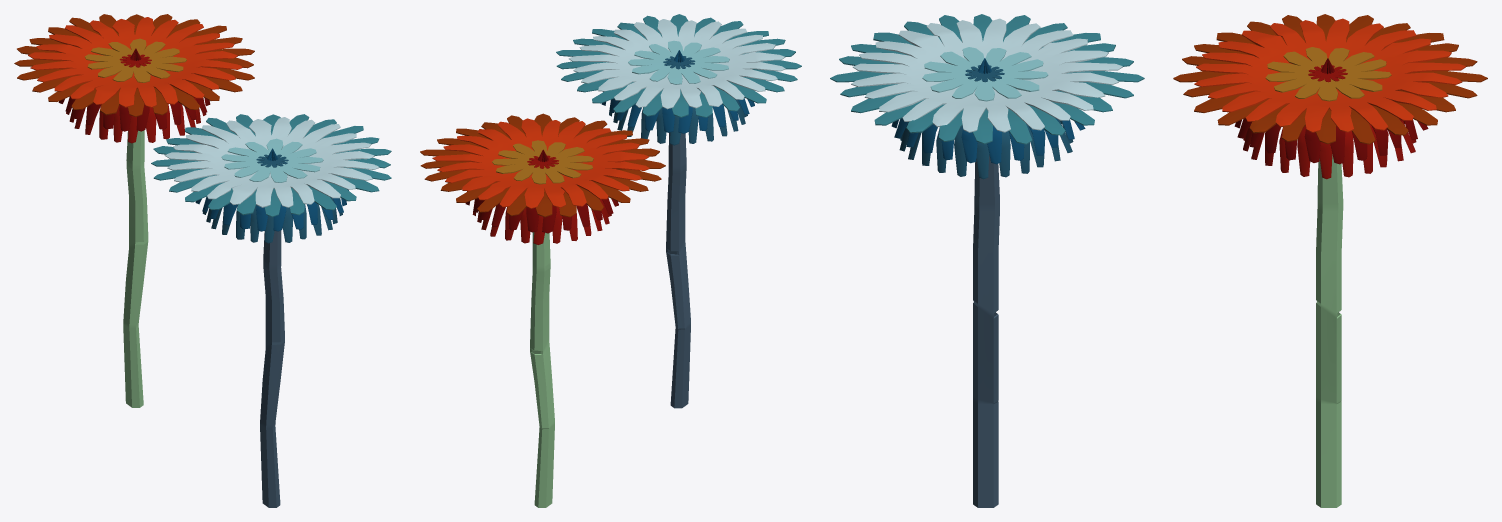
Rendered from Planta_Plataforma_Aberta_Estações.fbx.
3 views of the same model, side by side, from view 1: azimuth 30°, elevation 25°; view 2: azimuth 150°, elevation 25°; view 3: azimuth 270°, elevation 25° (orthographic). The views are drawn at different scales.
Visible parts, largest first — view 1: pCylinder2 (×2), pCylinder1 (×2), pCube4 (×2), pCylinder3 (×2), pCylinder6 (×2), pCylinder5 (×2); view 2: pCylinder2 (×2), pCylinder1 (×2), pCube4 (×2), pCylinder3 (×2), pCylinder6 (×2), pCylinder5 (×2); view 3: pCylinder2 (×2), pCube4 (×2), pCylinder1 (×2), pCylinder3 (×2), pCylinder6 (×2), pCylinder5 (×2).
Part boxes in pixels (x1,y1,x2,y2): pCylinder2 (×2): (28,17,379,207); pCylinder1 (×2): (14,14,391,217); pCube4 (×2): (123,130,284,507); pCylinder3 (×2): (84,38,323,182); pCylinder6 (×2): (66,97,342,243); pCylinder5 (×2): (58,89,348,231); pCylinder2 (×2): (432,19,785,208); pCylinder1 (×2): (420,14,801,217); pCube4 (×2): (530,132,690,507); pCylinder3 (×2): (492,40,729,184); pCylinder6 (×2): (472,99,747,244); pCylinder5 (×2): (465,91,754,233); pCylinder2 (×2): (851,18,1465,132); pCube4 (×2): (973,154,1343,507); pCylinder1 (×2): (830,14,1487,144); pCylinder3 (×2): (922,47,1391,101); pCylinder6 (×2): (899,120,1416,179); pCylinder5 (×2): (891,108,1428,164).
Size of the model in its own units: 782 by 1255 by 1675.
